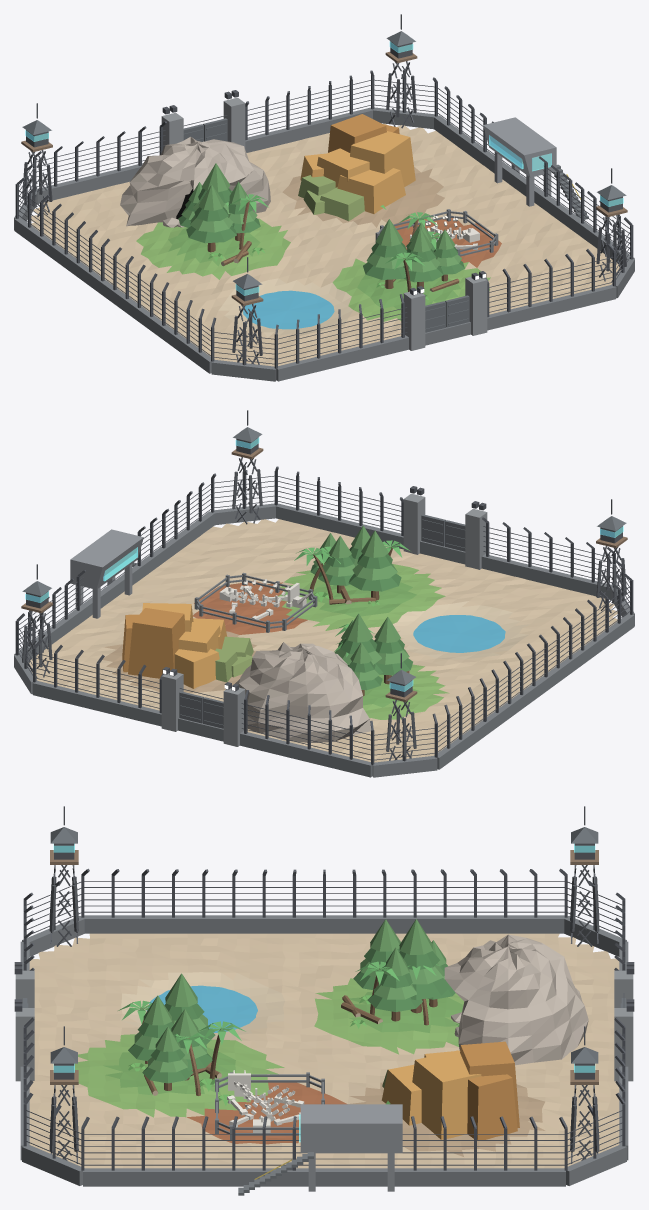
The model's file is trex_enclosure_100x100.glb.
The picture shows the model from 3 angles, top to bottom: view 1: azimuth 30°, elevation 25°; view 2: azimuth 150°, elevation 25°; view 3: azimuth 270°, elevation 25°; orthographic projection. The views are drawn at different scales.
Visible parts, largest first — view 1: TRex_Terrain, Fence_Foundation_Curb, Fence_Posts, Stepped_Rock_Outcrop, Fence_Cables, Cave_Grotto, Observation_Bunker, Pond_Water_Surface, Gate_FrontLeft_Pylons, Pine_Back_1, Gate_BackRight_Pylons, Pine_Front_1 (+12 smaller); view 2: TRex_Terrain, Fence_Foundation_Curb, Cave_Grotto, Fence_Posts, Stepped_Rock_Outcrop, Fence_Cables, Observation_Bunker, Pond_Water_Surface, Gate_FrontLeft_Pylons, Gate_BackRight_Pylons, Pine_Front_1, Watchtower_Bottom (+11 smaller); view 3: TRex_Terrain, Fence_Foundation_Curb, Cave_Grotto, Stepped_Rock_Outcrop, Fence_Cables, Fence_Posts, Observation_Bunker, Pine_Back_2, Watchtower_Left, Watchtower_Top, Dino_Carcass_Skeleton, Pond_Water_Surface (+12 smaller).
Part boxes in pixels (<box>): TRex_Terrain: <box>31,123,620,366</box>; Fence_Foundation_Curb: <box>14,107,634,381</box>; Fence_Posts: <box>15,70,633,368</box>; Stepped_Rock_Outcrop: <box>298,114,415,221</box>; Fence_Cables: <box>18,79,631,364</box>; Cave_Grotto: <box>120,136,270,226</box>; Observation_Bunker: <box>483,117,588,219</box>; Pond_Water_Surface: <box>243,290,334,329</box>; Gate_FrontLeft_Pylons: <box>403,271,487,350</box>; Pine_Back_1: <box>186,184,236,252</box>; Gate_BackRight_Pylons: <box>161,90,245,149</box>; Pine_Front_1: <box>363,219,407,288</box>; TRex_Terrain: <box>28,519,617,762</box>; Fence_Foundation_Curb: <box>14,503,634,777</box>; Cave_Grotto: <box>235,642,373,742</box>; Fence_Posts: <box>15,466,633,764</box>; Stepped_Rock_Outcrop: <box>122,603,253,688</box>; Fence_Cables: <box>17,475,630,760</box>; Observation_Bunker: <box>70,529,143,618</box>; Pond_Water_Surface: <box>413,615,505,652</box>; Gate_FrontLeft_Pylons: <box>403,486,487,569</box>; Gate_BackRight_Pylons: <box>161,667,245,746</box>; Pine_Front_1: <box>348,530,401,600</box>; Watchtower_Bottom: <box>231,410,263,524</box>; TRex_Terrain: <box>29,933,619,1168</box>; Fence_Foundation_Curb: <box>20,915,628,1186</box>; Cave_Grotto: <box>444,934,588,1065</box>; Stepped_Rock_Outcrop: <box>381,1041,519,1139</box>; Fence_Cables: <box>24,881,624,1165</box>; Fence_Posts: <box>23,868,625,1170</box>; Observation_Bunker: <box>238,1104,402,1195</box>; Pine_Back_2: <box>399,919,450,1013</box>; Watchtower_Left: <box>49,806,78,946</box>; Watchtower_Top: <box>570,806,599,946</box>; Dino_Carcass_Skeleton: <box>227,1070,304,1132</box>; Pond_Water_Surface: <box>146,985,257,1032</box>.
Bounding box in the file's own units: 92.9 × 24.43 × 91.27.
